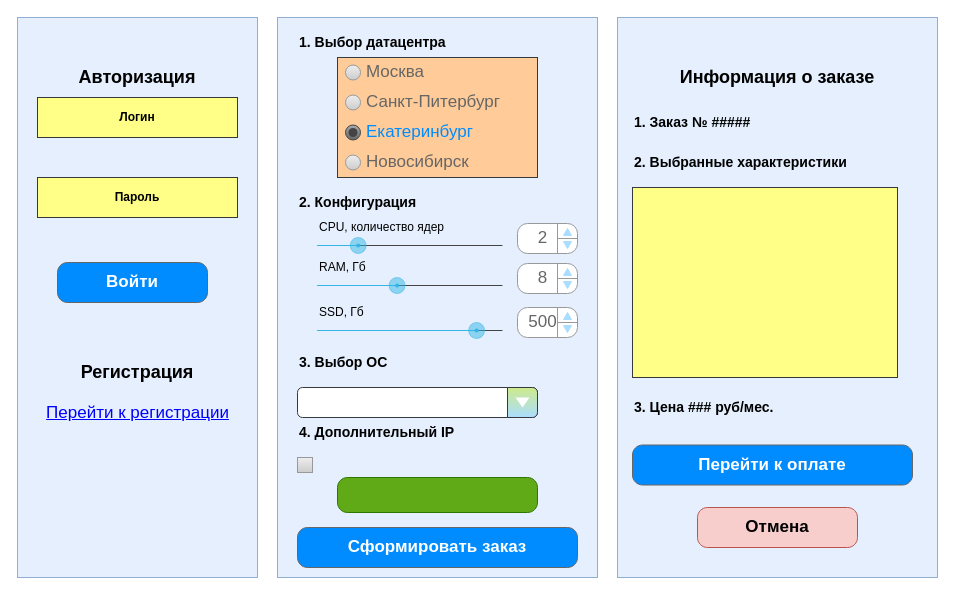
The diagram is 955 pixels wide and 595 high, and some of its shapes have lost their labels. The shapes that lost their labels are listed below. From the top down, each one's centre as x and y in pixels, then its label:
At (x=765, y=282): "Инфо".
At (x=417, y=402): "Ubuntu".
At (x=304, y=464): "Добавить IP".
At (x=437, y=494): "Сросить всё".
